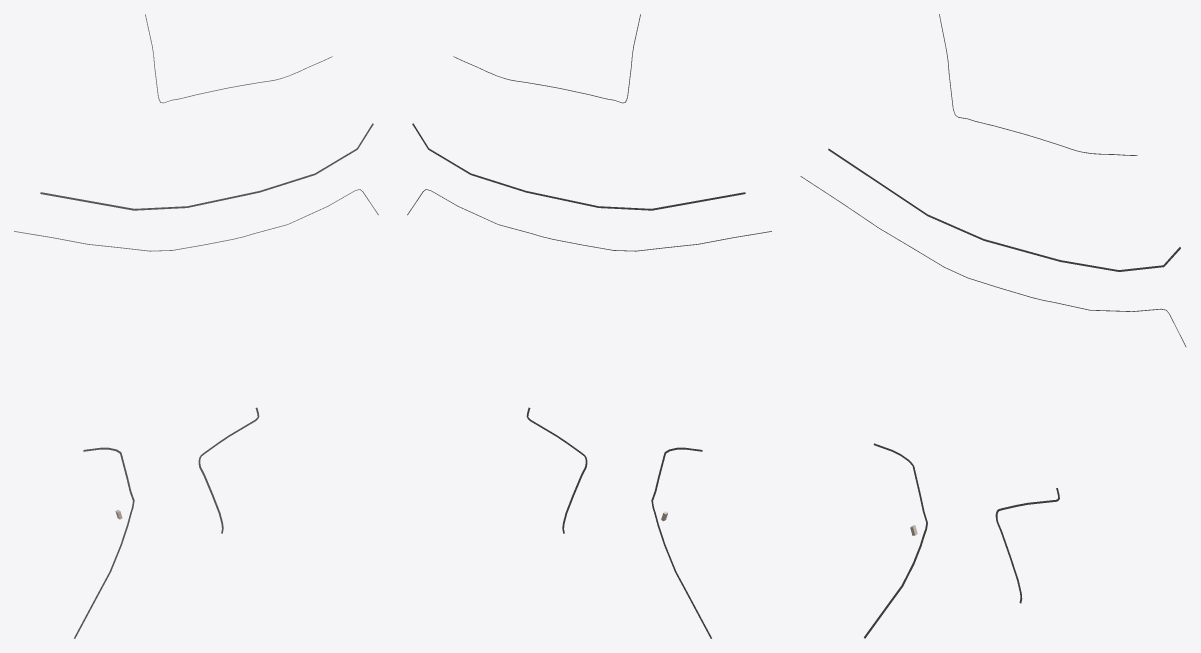
The model's file is amman_3581_3190.glb.
3 renders of one model, left to right at view 1: azimuth 30°, elevation 25°; view 2: azimuth 150°, elevation 25°; view 3: azimuth 330°, elevation 25°, orthographic. The views are drawn at different scales.
Parts seen in each view (by area): view 1: Road .004, Road, Road .002; view 2: Road .004, Road, Road .002; view 3: Road .004, Road, Road .002.
Part boxes in pixels (box(x1,y1,x2,y2)): Road .004: box(40, 123, 373, 210); Road: box(74, 447, 134, 638); Road .002: box(14, 189, 378, 251); Road .004: box(412, 123, 745, 210); Road: box(651, 447, 711, 638); Road .002: box(407, 189, 771, 251); Road .004: box(828, 148, 1180, 271); Road: box(864, 443, 927, 638); Road .002: box(800, 176, 1186, 347).
Size of the model in its own units: 675 by 1074 by 8.7.
